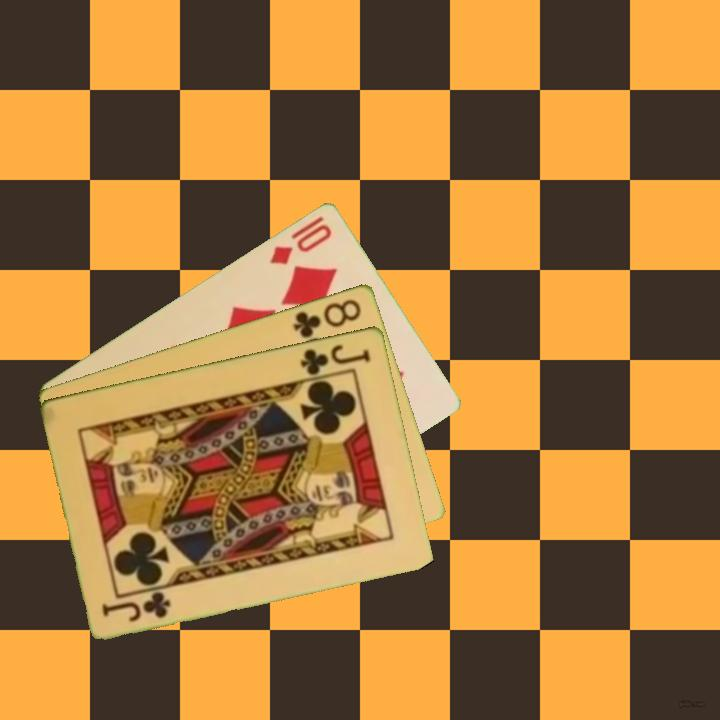10d: (265, 212, 335, 267)
8c: (289, 295, 365, 341)
Jc: (297, 340, 373, 378), (98, 587, 174, 624)
